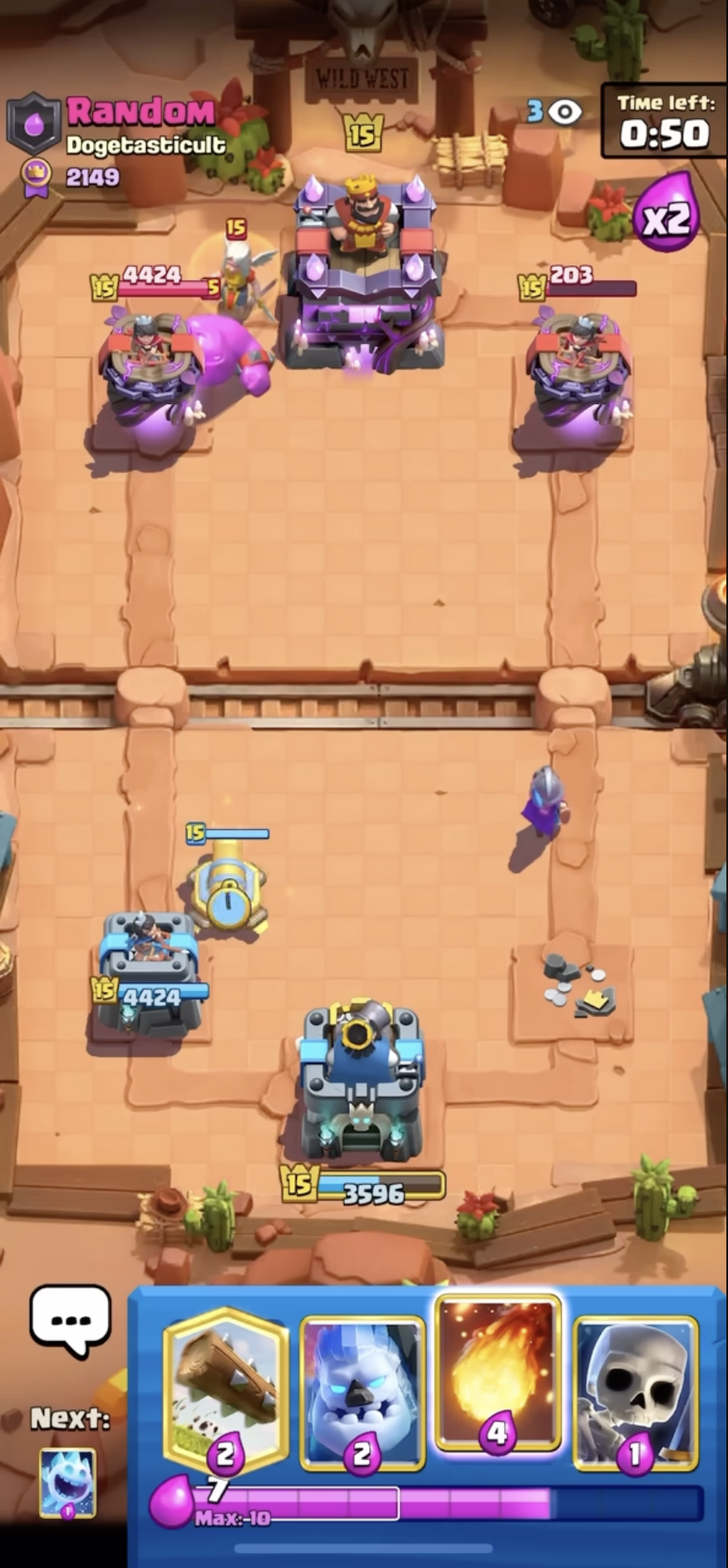cannon: (177, 806, 289, 952)
evo-musketeer: (507, 732, 588, 860)
